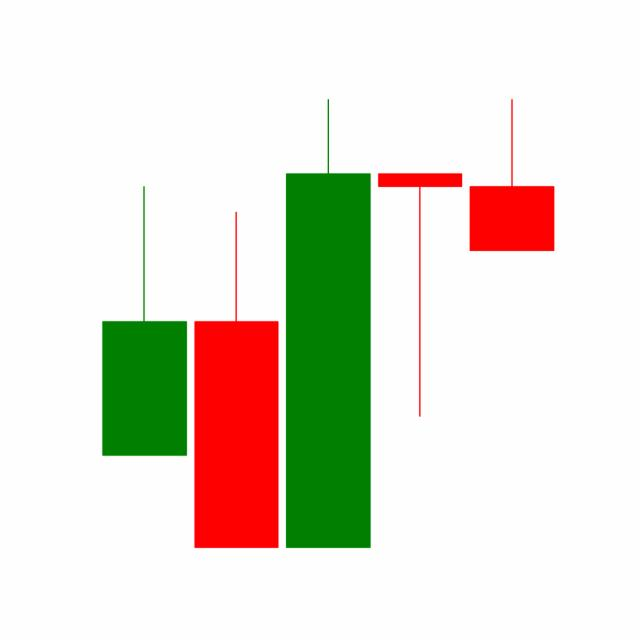Dragonfly Doji: (373, 170, 467, 420)
